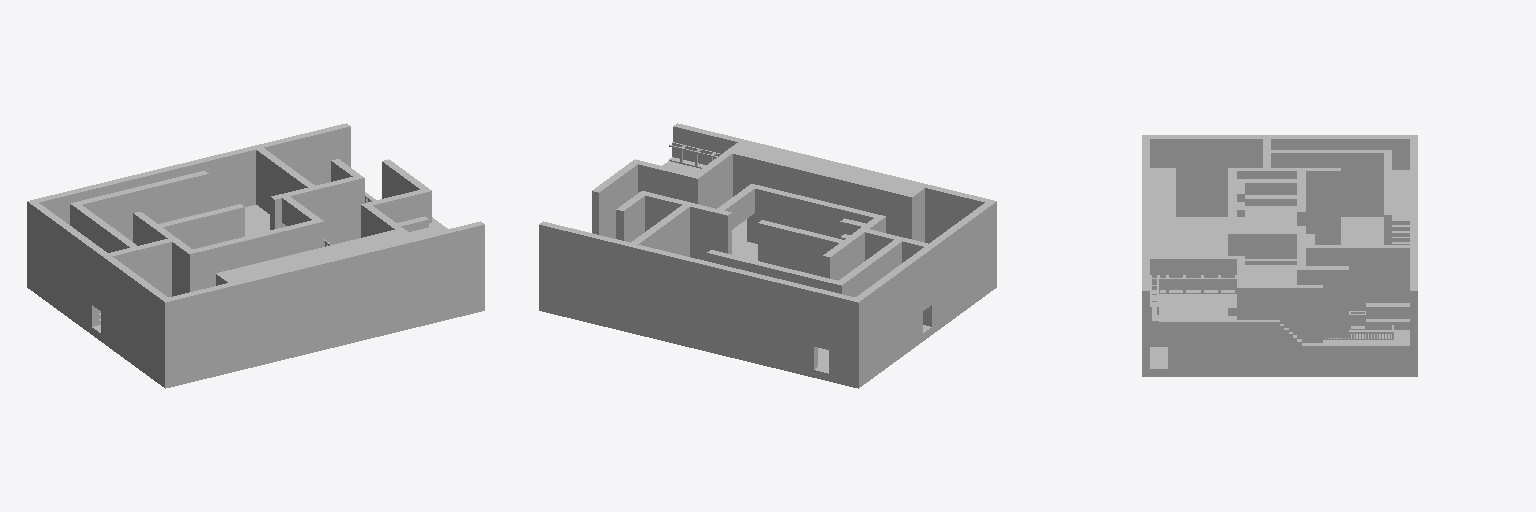
The model's file is new_ivan_labyrinth_left 1.obj.
3 views of the same model, side by side, from view 1: azimuth 30°, elevation 25°; view 2: azimuth 150°, elevation 25°; view 3: azimuth 270°, elevation 25° (orthographic).
Parts seen in each view (by area): view 1: object 1; view 2: object 1; view 3: object 1.
Part boxes in pixels (x1,y1,x2,y2): object 1: (27,123,484,388); object 1: (539,123,996,388); object 1: (1142,135,1417,376).
Bounding box in the file's own units: 25.6 × 6.6 × 19.2.